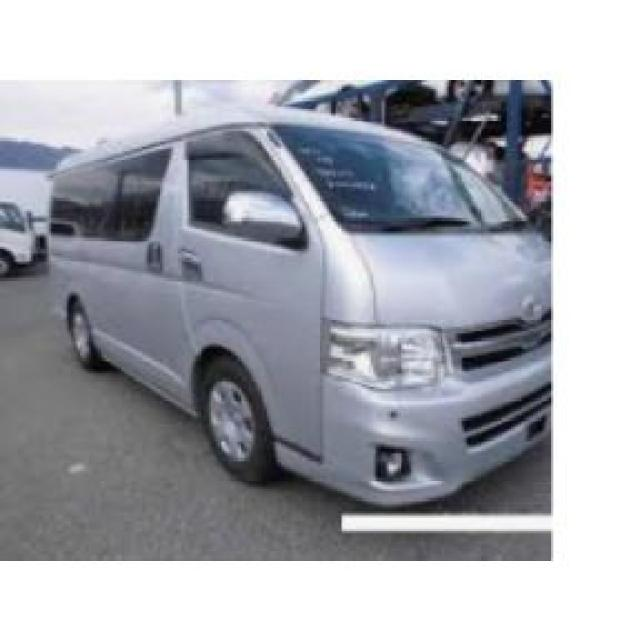Van: (49, 98, 548, 494)
